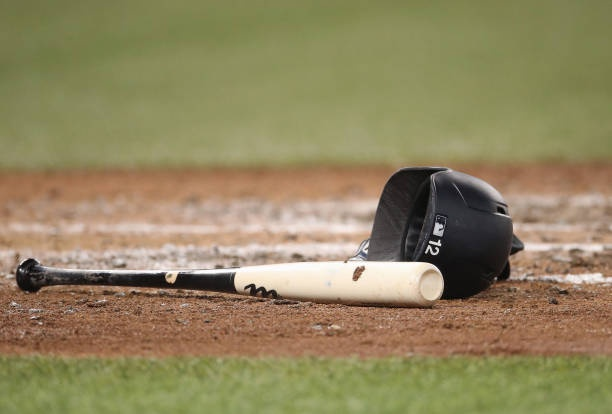bita: (15, 256, 442, 306)
